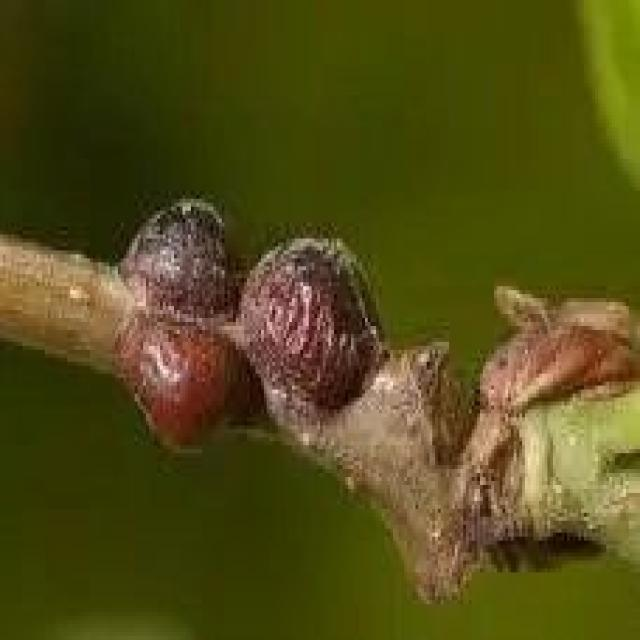BlackScale: (242, 238, 382, 410), (121, 310, 264, 449), (120, 199, 238, 310)
